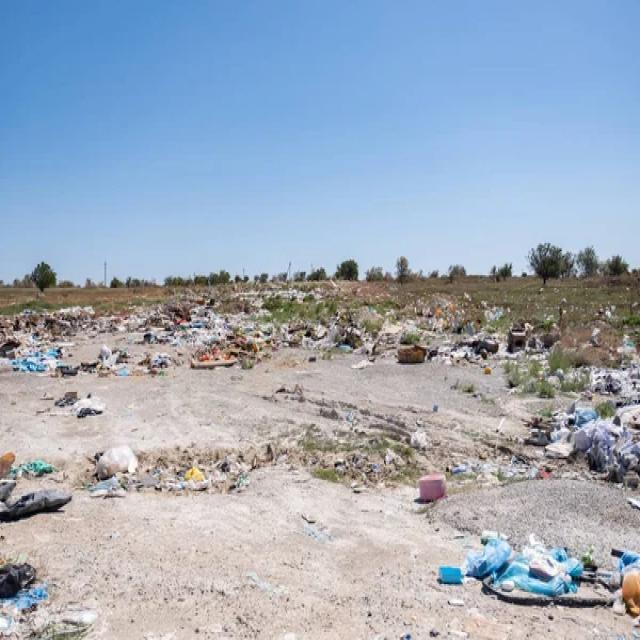garbage: (0, 279, 640, 601)
